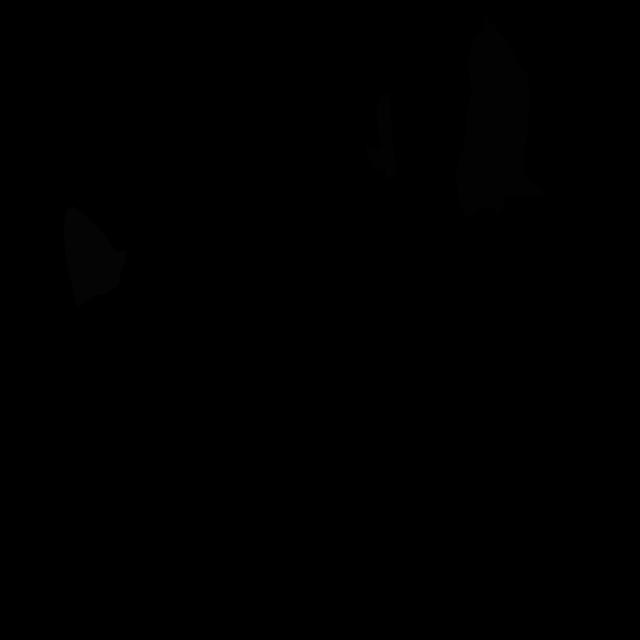cardboard: (456, 16, 544, 219), (366, 93, 396, 179)
soft_plastic: (64, 206, 126, 307)
